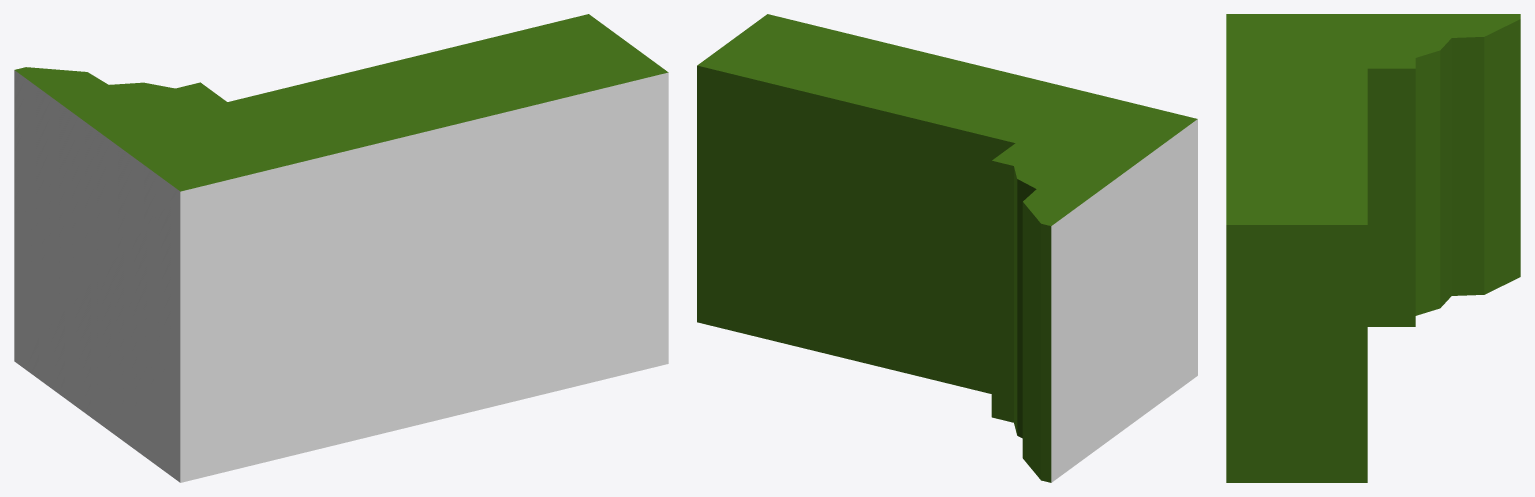
The model's file is B8 SW Mountain.obj.
3 renders of one model, left to right at view 1: azimuth 30°, elevation 25°; view 2: azimuth 150°, elevation 25°; view 3: azimuth 270°, elevation 25°, orthographic. The views are drawn at different scales.
Visible parts, largest first — view 1: Mesh1 B8_SW_Mountain1 Model; view 2: Mesh1 B8_SW_Mountain1 Model; view 3: Mesh1 B8_SW_Mountain1 Model.
Part boxes in pixels (x1=…): Mesh1 B8_SW_Mountain1 Model: x1=14, y1=14, x2=668, y2=482; Mesh1 B8_SW_Mountain1 Model: x1=697, y1=14, x2=1197, y2=482; Mesh1 B8_SW_Mountain1 Model: x1=1226, y1=14, x2=1520, y2=482.
Size of the model in its own units: 7.01 by 4 by 4.14.
